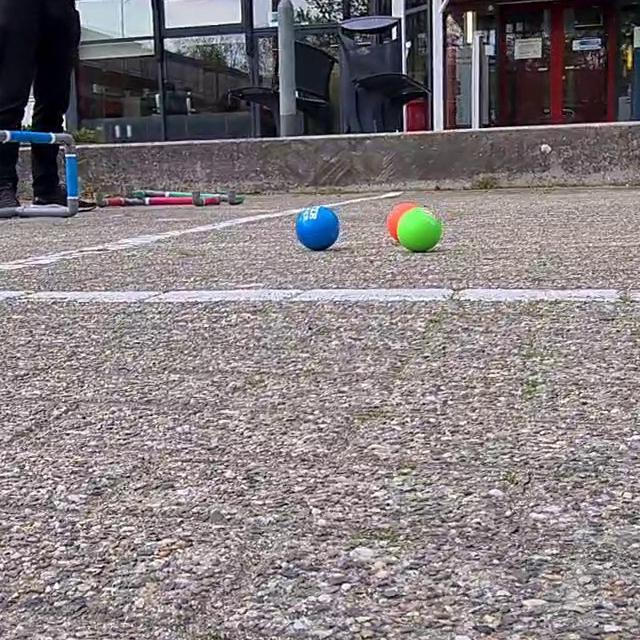ball: (290, 202, 345, 254), (395, 207, 445, 254)
